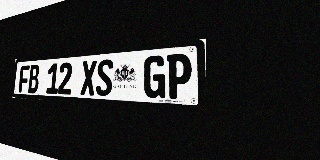1: (46, 63, 60, 94)
2: (58, 62, 72, 95)
B: (28, 64, 40, 93)
F: (19, 65, 30, 93)
G: (143, 55, 166, 98)
P: (166, 53, 192, 99)
S: (96, 59, 114, 96)
X: (80, 60, 97, 96)
